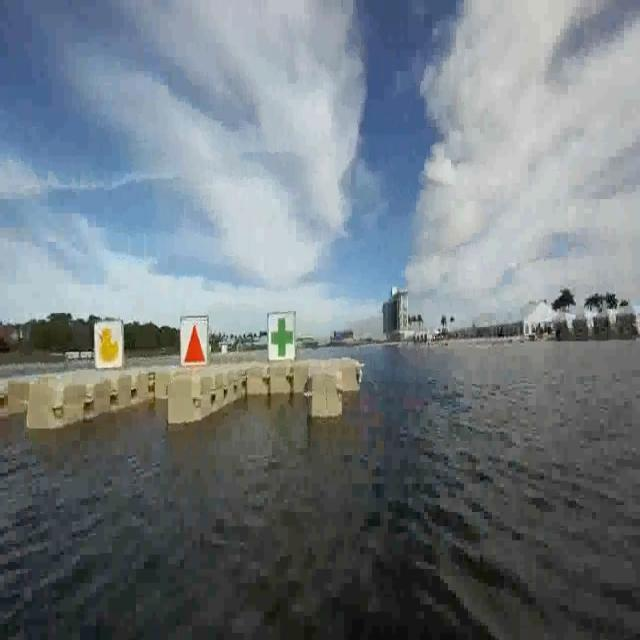blue-cross: (269, 311, 296, 360)
red-dot: (180, 311, 209, 369)
yellow-duck: (95, 326, 123, 369)
